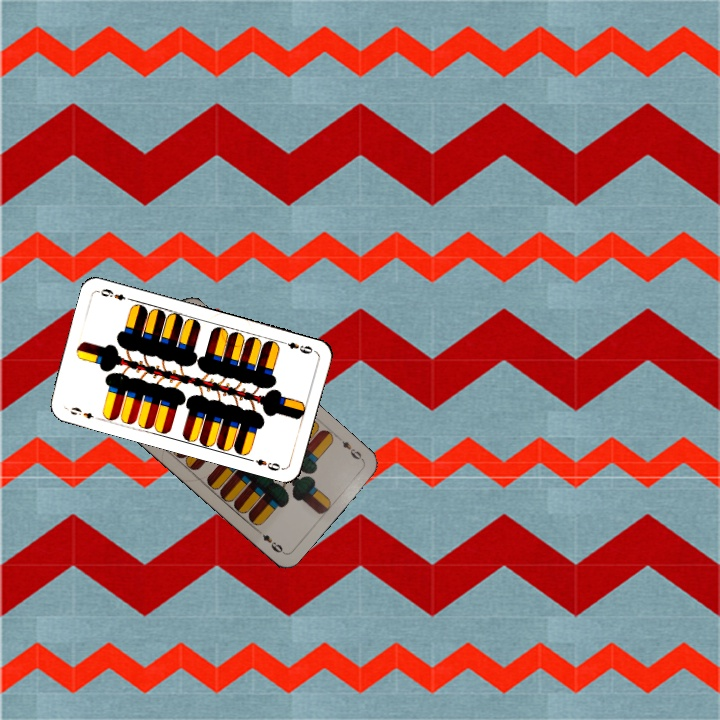E9: (333, 432, 366, 463), (277, 337, 315, 357), (66, 403, 96, 421)
